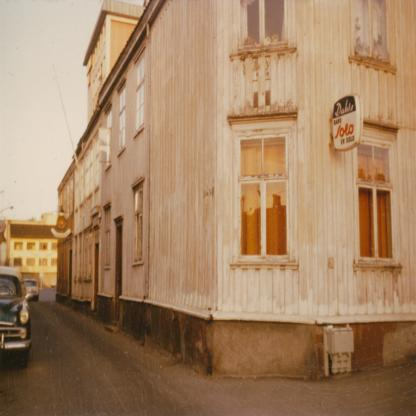Car: (1, 264, 36, 366), (26, 280, 42, 303)
